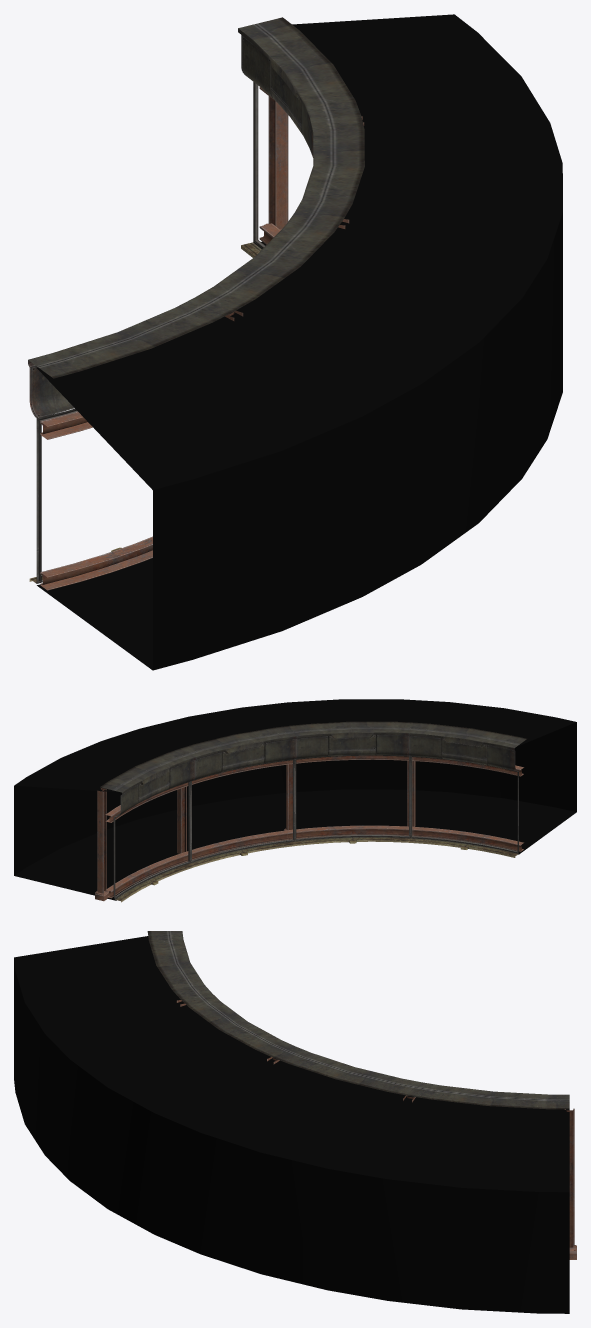
File: pplant_dome_90_lowered_black.dae
The picture shows the model from 3 angles, top to bottom: view 1: azimuth 30°, elevation 25°; view 2: azimuth 150°, elevation 25°; view 3: azimuth 270°, elevation 25°; orthographic projection. The views are drawn at different scales.
Visible parts, largest first — view 1: dome; view 2: dome; view 3: dome.
Part boxes in pixels (left/top/right/bottom): dome: left=28, top=14, right=562, bottom=670; dome: left=14, top=699, right=576, bottom=902; dome: left=14, top=931, right=576, bottom=1313.
Bounding box in the file's own units: 14.27 × 4.22 × 14.46.
